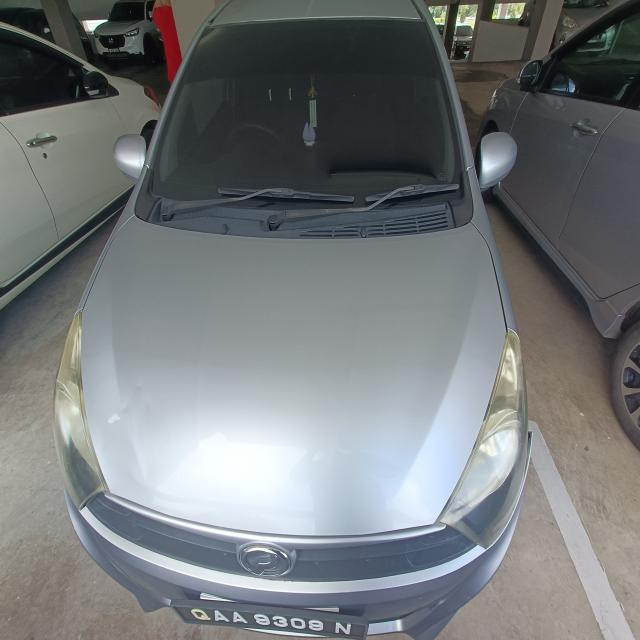PeroduaAxia: (51, 0, 532, 638)
